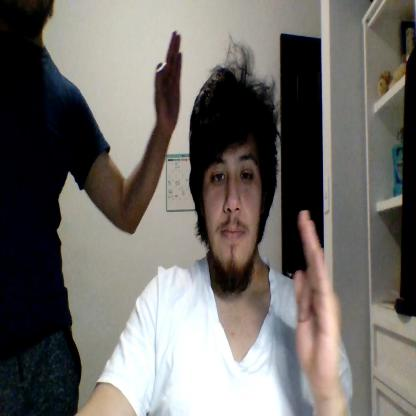F: (294, 209, 340, 389), (154, 29, 182, 130)
